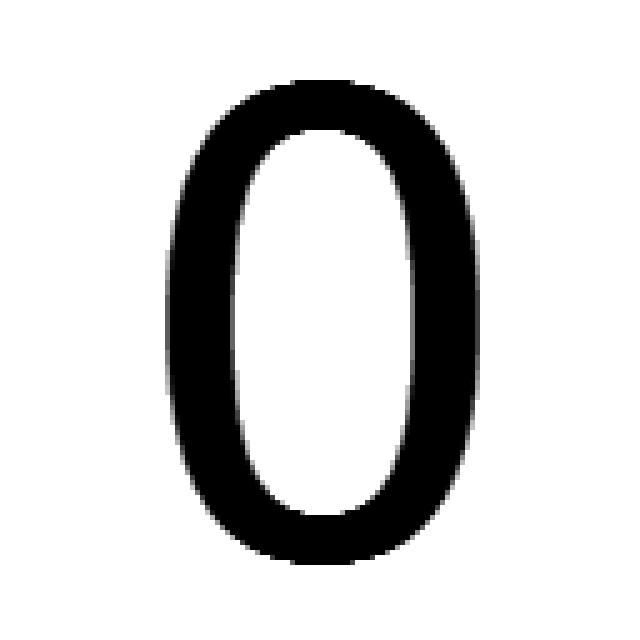O: (165, 80, 485, 570)
